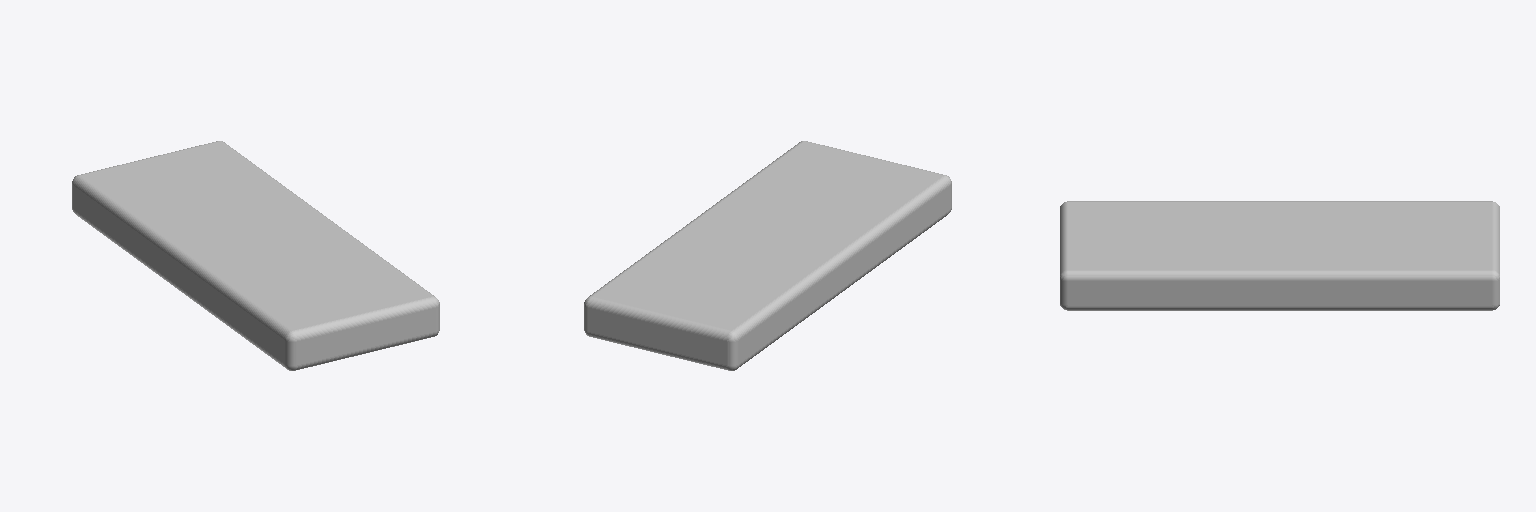
The model's file is MATRESS_5.obj.
The picture shows the model from 3 angles: view 1: azimuth 30°, elevation 25°; view 2: azimuth 150°, elevation 25°; view 3: azimuth 270°, elevation 25°; orthographic projection.
Visible parts, largest first — view 1: Cube.009_Cube; view 2: Cube.009_Cube; view 3: Cube.009_Cube.
Part boxes in pixels (x1,y1,x2,y2): Cube.009_Cube: (72, 141, 439, 370); Cube.009_Cube: (584, 141, 951, 370); Cube.009_Cube: (1060, 201, 1499, 310).
Size of the model in its own units: 0.8141 by 0.2017 by 2.02.